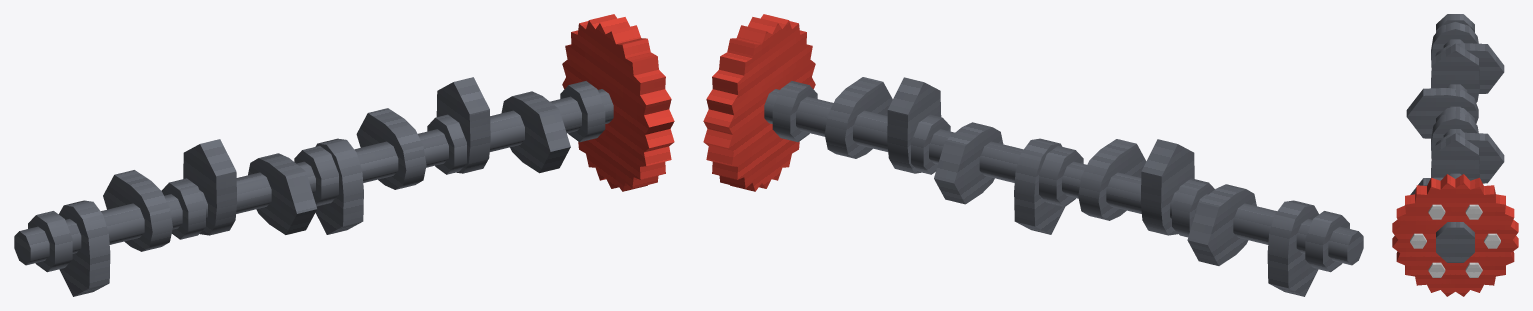
The model's file is comando_n4.glb.
The picture shows the model from 3 angles, left to right: view 1: azimuth 30°, elevation 25°; view 2: azimuth 150°, elevation 25°; view 3: azimuth 270°, elevation 25°; orthographic projection. The views are drawn at different scales.
Parts seen in each view (by area): view 1: comando_n4; view 2: comando_n4; view 3: comando_n4.
Boxes of the visible parts, x1,y1,x2,y2 form: comando_n4: [14, 14, 674, 296]; comando_n4: [703, 14, 1363, 296]; comando_n4: [1392, 14, 1518, 296].
Bounding box in the file's own units: 0.492 × 0.119 × 0.119.
Materials: 2 (2 with a texture image).
